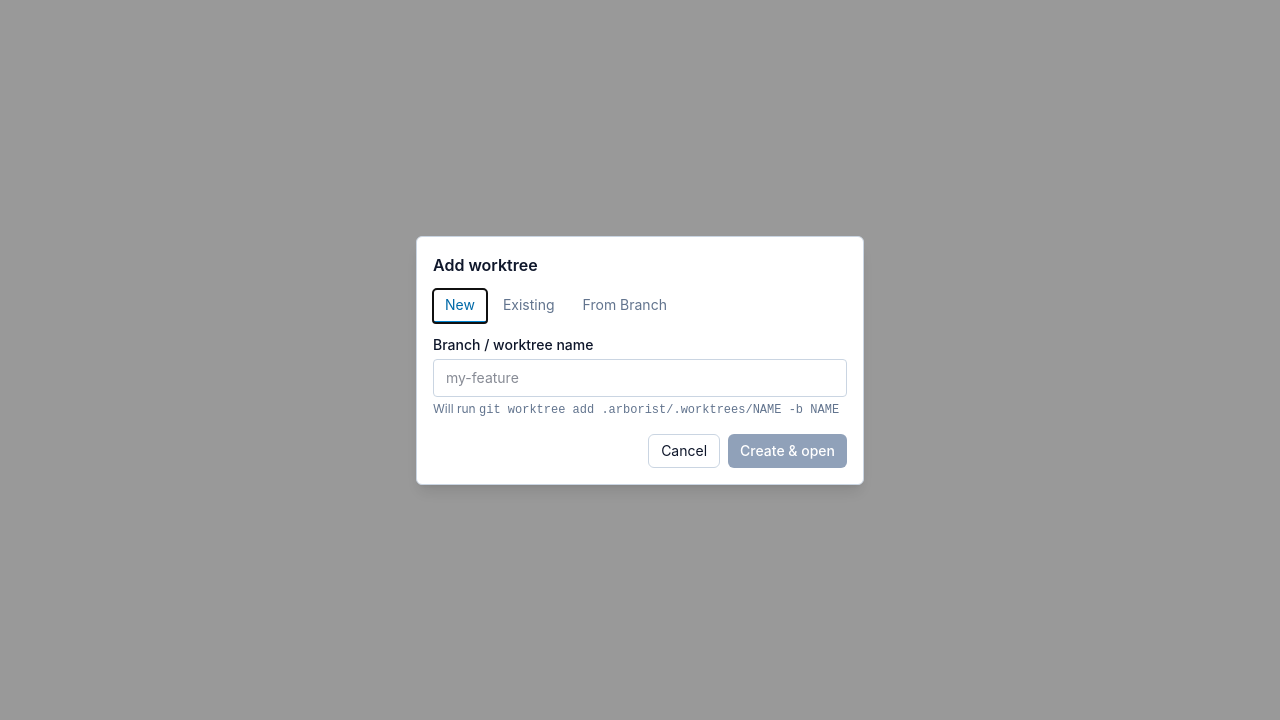
Scenario: NewSessionDialog › shows empty state and allows Browse
The image size is (1280, 720).
Check: the heading "Add worktree" is shown, box [433,254,538,274]
What coordinates should you click on to do the following:
click the tab "Existing"
I would click on:
 (529, 306)
Its box is [491,288,567,322].
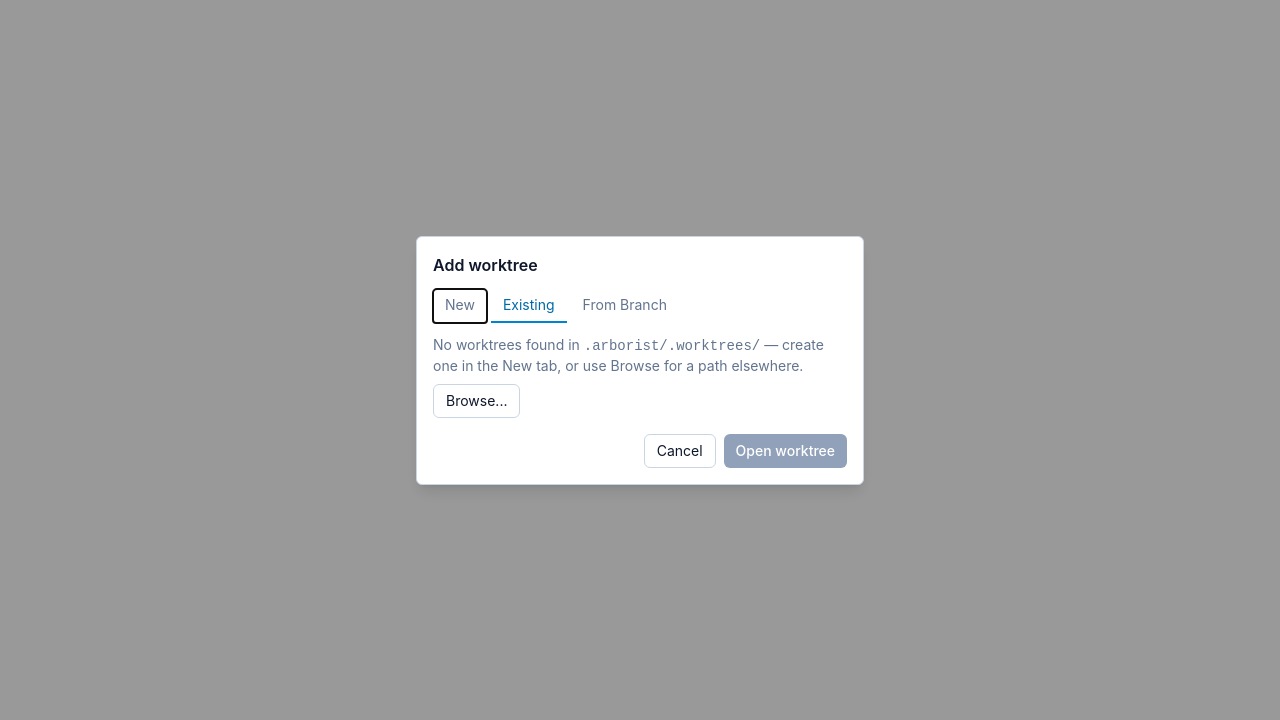
Check: the text "No worktrees found in" is shown, box [433,336,584,352]
Check: the button "Open worktree" is disabled, box [724,434,847,468]
What coordinates should you click on to do the following:
click the button "Browse..."
I would click on:
 (477, 400)
Its box is [433,384,520,418].
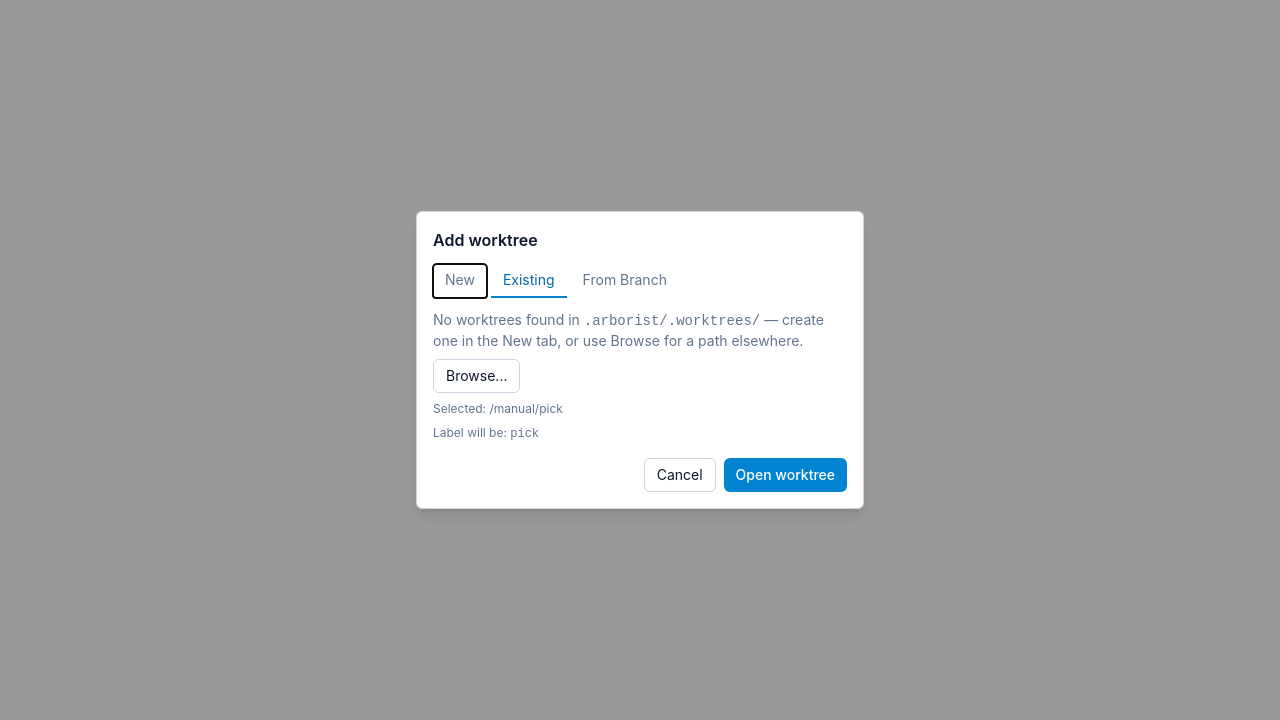
Check: the text "Selected: /manual/pick" is shown, box [433,401,563,416]
Check: the button "Open worktree" is enabled, box [724,458,847,492]
